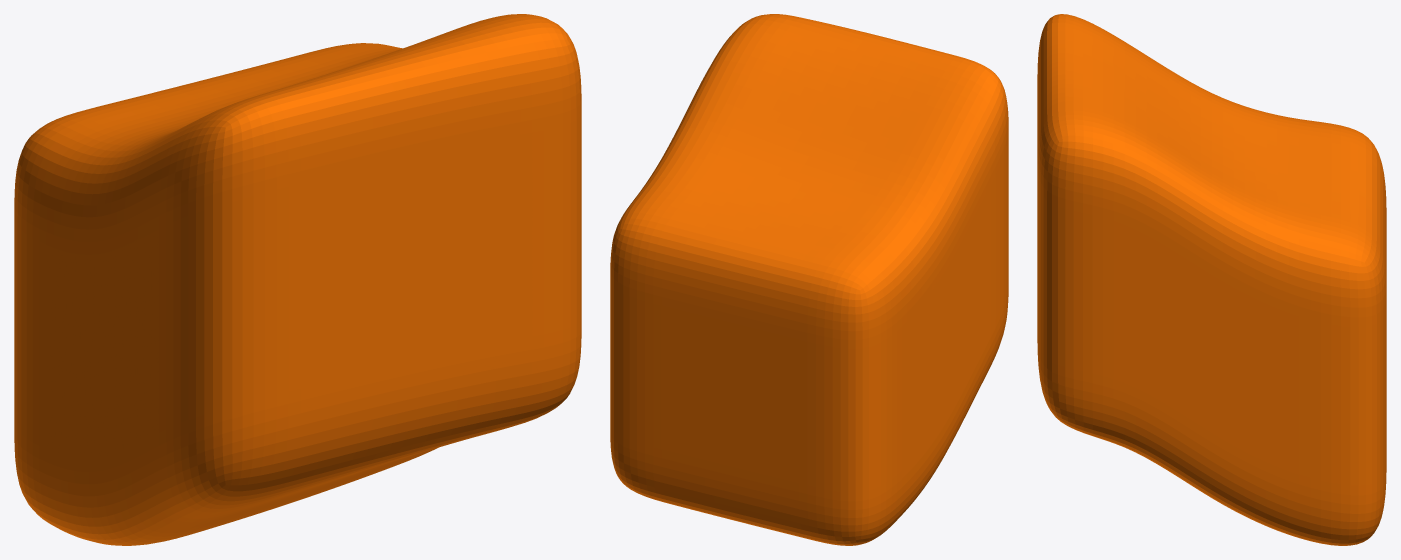
The picture shows the model from 3 angles, left to right: view 1: azimuth 30°, elevation 25°; view 2: azimuth 150°, elevation 25°; view 3: azimuth 270°, elevation 25°; orthographic projection. The views are drawn at different scales.
Visible parts, largest first — view 1: smooth_1_base.004; view 2: smooth_1_base.004; view 3: smooth_1_base.004.
Boxes of the visible parts, x1,y1,x2,y2 form: smooth_1_base.004: (14, 14, 581, 545); smooth_1_base.004: (610, 14, 1008, 545); smooth_1_base.004: (1037, 14, 1386, 545).
Bounding box in the file's own units: 60 × 81.61 × 60.
